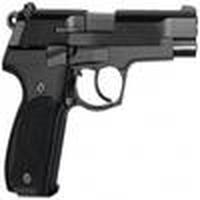gun: (3, 3, 200, 197)
